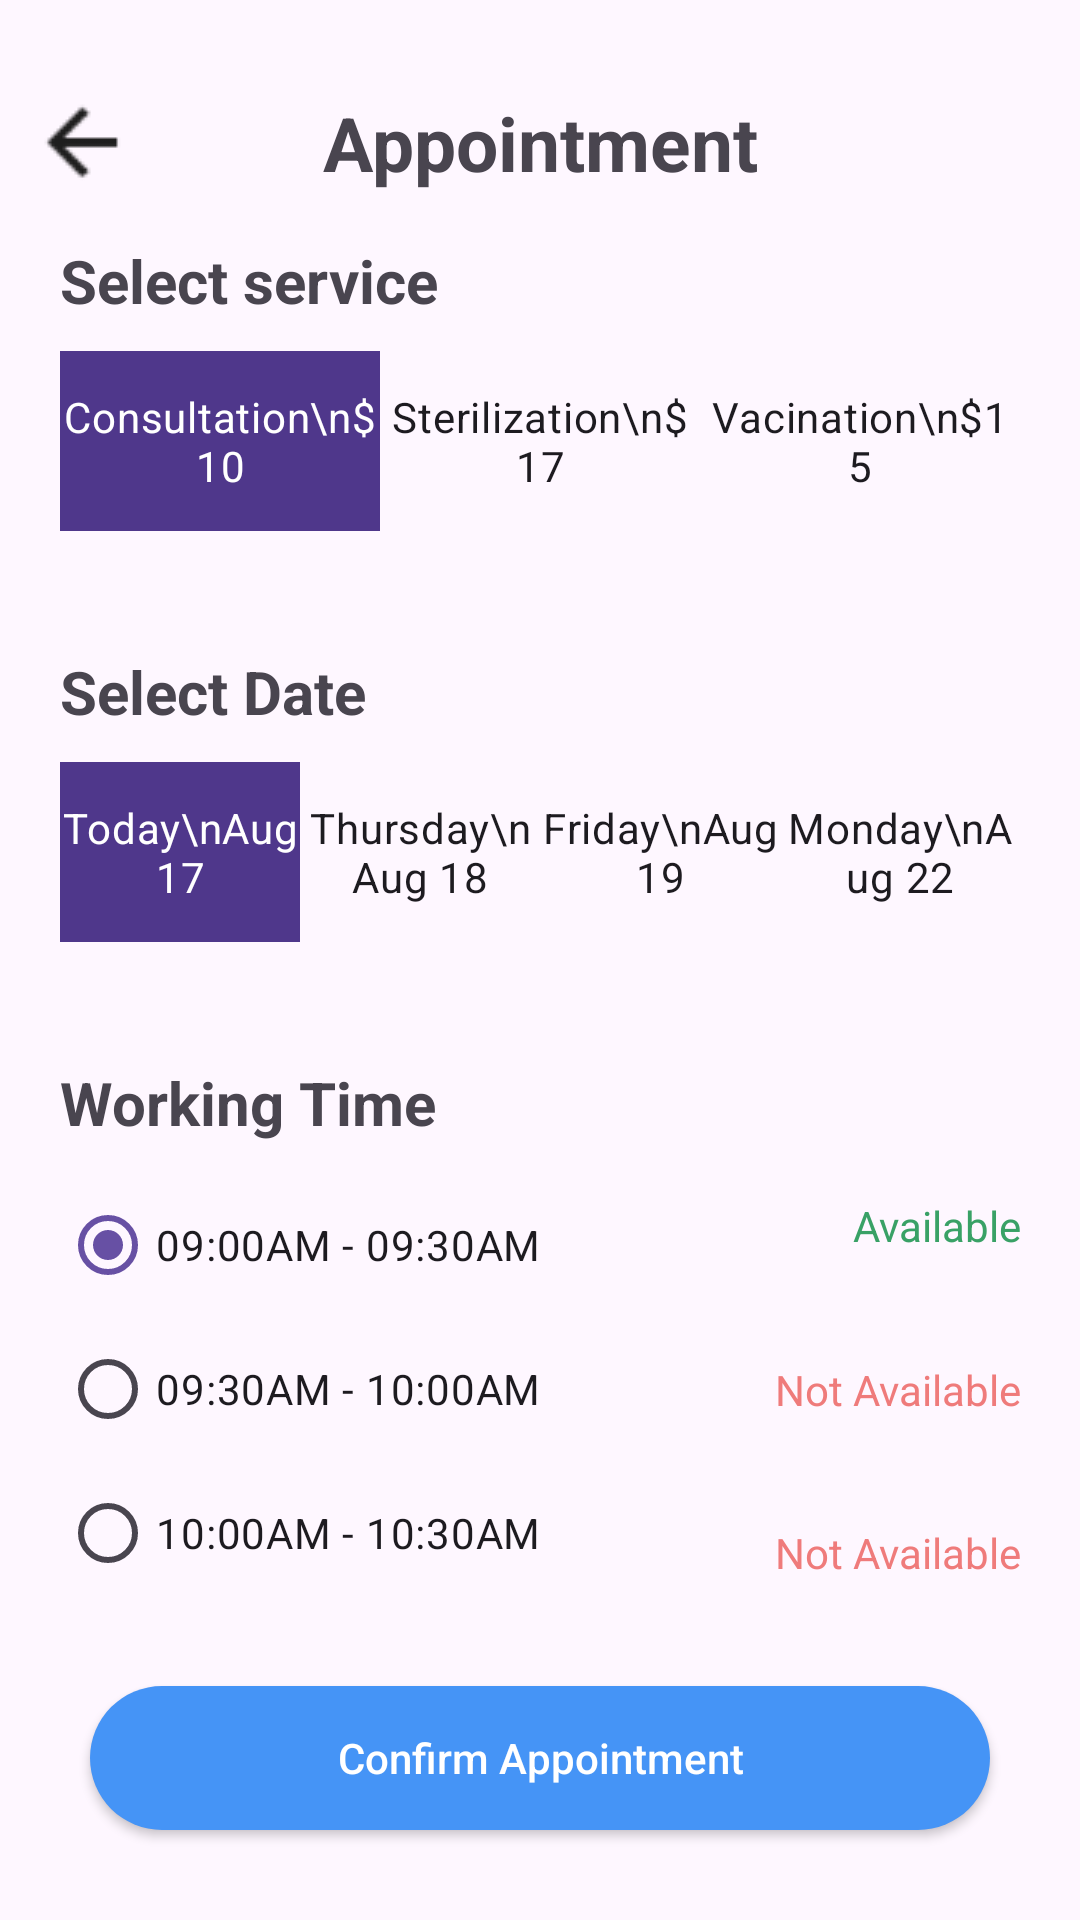

Locate icon controls on the screen. Image size 1080*1920, boxes as (x1, y1, x2, y2).
back: (47, 107, 118, 178)
